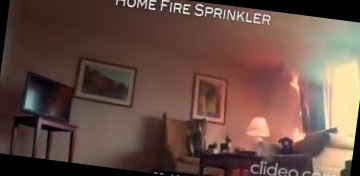fire: (256, 48, 324, 153)
